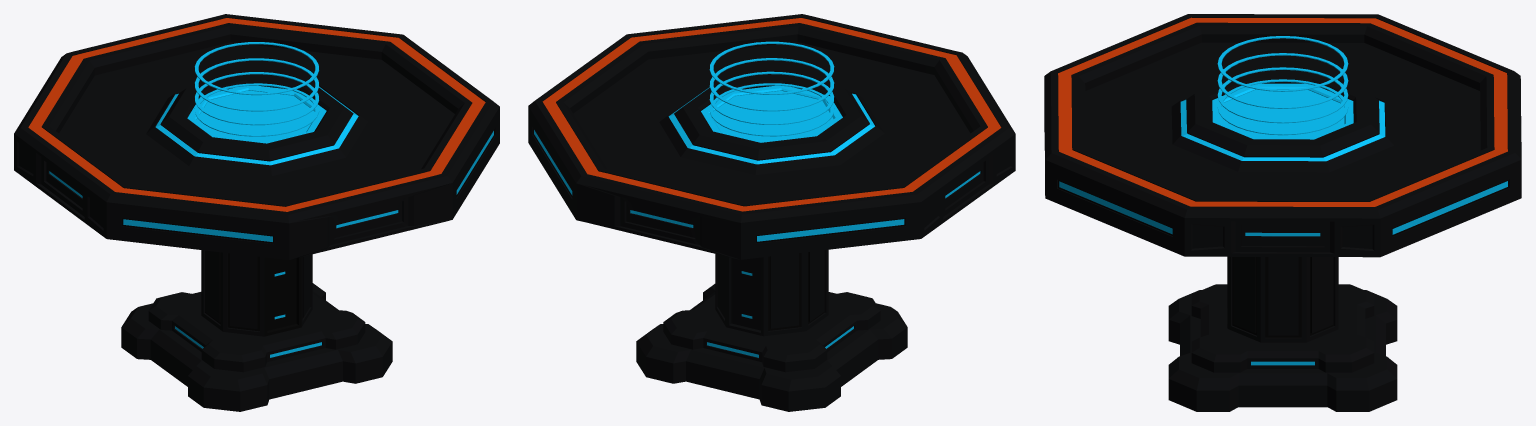
Rendered from SM_Holo.obj.
3 renders of one model, left to right at view 1: azimuth 30°, elevation 25°; view 2: azimuth 150°, elevation 25°; view 3: azimuth 270°, elevation 25°, orthographic. The views are drawn at different scales.
Parts seen in each view (by area): view 1: SM_Holo_Base; view 2: SM_Holo_Base; view 3: SM_Holo_Base.
Part boxes in pixels (x1=…): SM_Holo_Base: x1=14, y1=14, x2=499, y2=411; SM_Holo_Base: x1=528, y1=14, x2=1015, y2=411; SM_Holo_Base: x1=1044, y1=14, x2=1521, y2=411.
Bounding box in the file's own units: 1.46 × 1.01 × 1.46.
